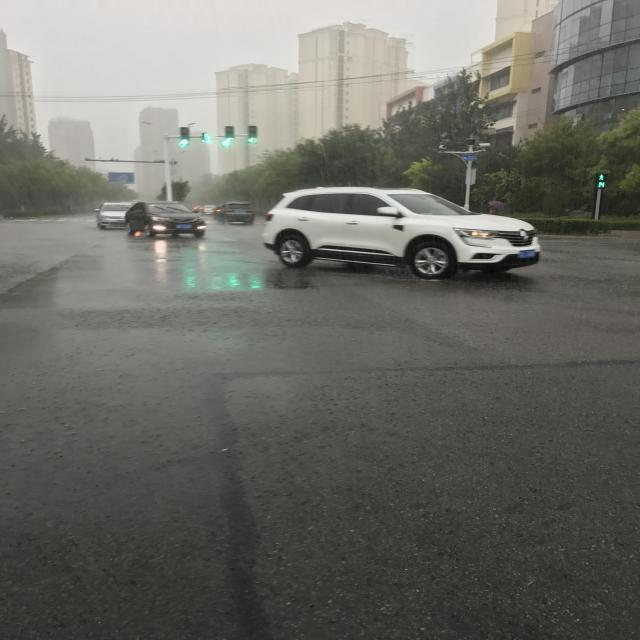car: (186, 97, 281, 377), (200, 434, 240, 514), (202, 507, 232, 544), (200, 386, 226, 426)
